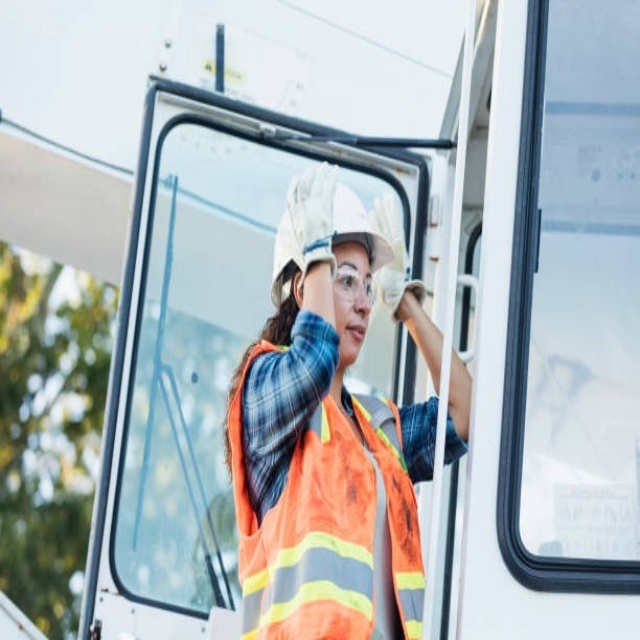Gafas: (328, 267, 377, 307)
Guantes: (368, 190, 424, 318), (286, 159, 339, 284)
Sin_mascara: (341, 315, 367, 358)
